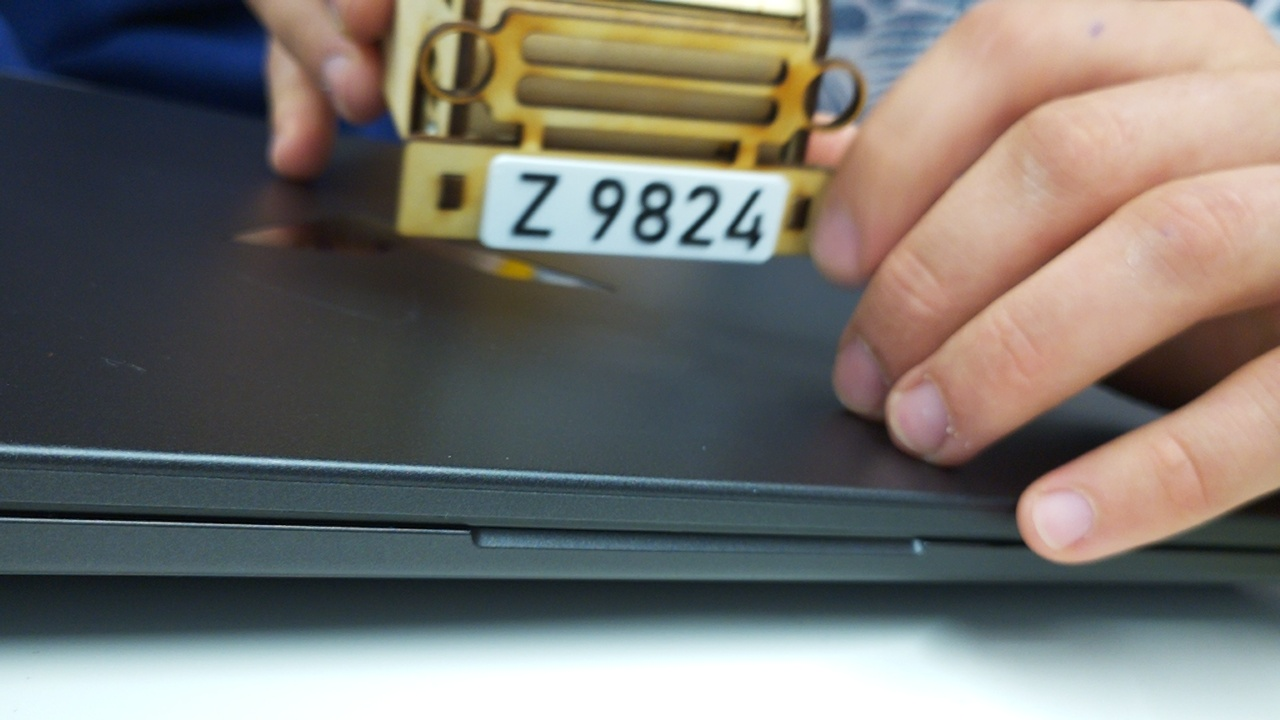license_plate: (476, 150, 792, 269)
